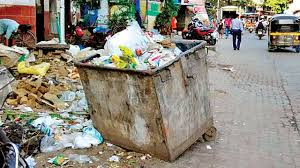garbage: (2, 52, 105, 168), (100, 26, 186, 68)
